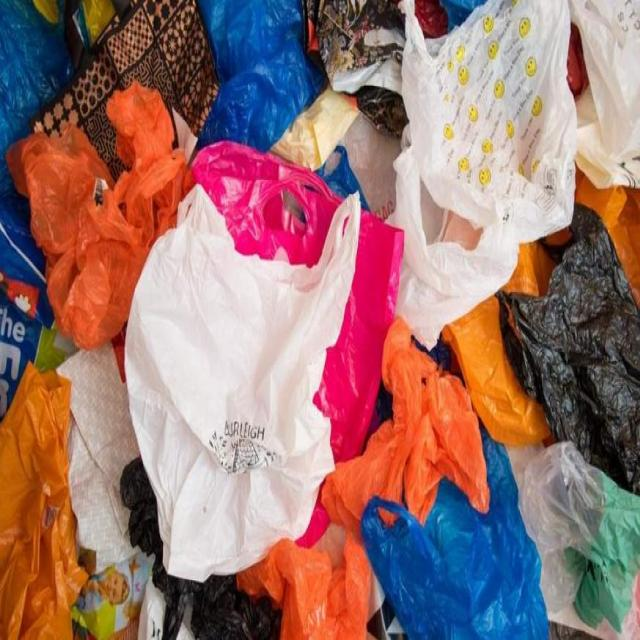plastic_bag: (122, 179, 366, 576), (186, 138, 401, 477), (378, 3, 584, 342), (9, 75, 196, 353), (487, 199, 640, 491), (360, 432, 558, 640), (316, 322, 495, 539), (6, 356, 83, 640)
